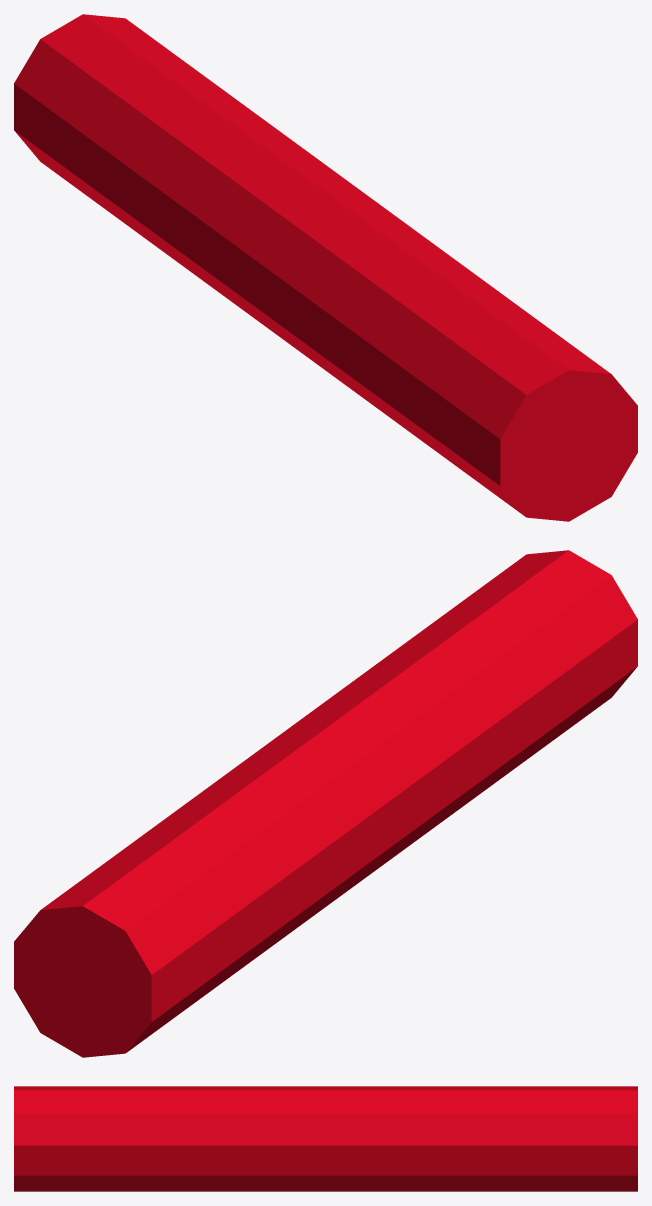
Rendered from Laser use.fbx.
The picture shows the model from 3 angles, top to bottom: view 1: azimuth 30°, elevation 25°; view 2: azimuth 150°, elevation 25°; view 3: azimuth 270°, elevation 25°; orthographic projection. The views are drawn at different scales.
Parts seen in each view (by area): view 1: Cylinder; view 2: Cylinder; view 3: Cylinder.
Boxes of the visible parts, bbox=[...] form: Cylinder: bbox=[14, 14, 637, 521]; Cylinder: bbox=[14, 550, 637, 1057]; Cylinder: bbox=[14, 1086, 637, 1191].
Bounding box in the file's own units: 65.95 × 69.34 × 403.
